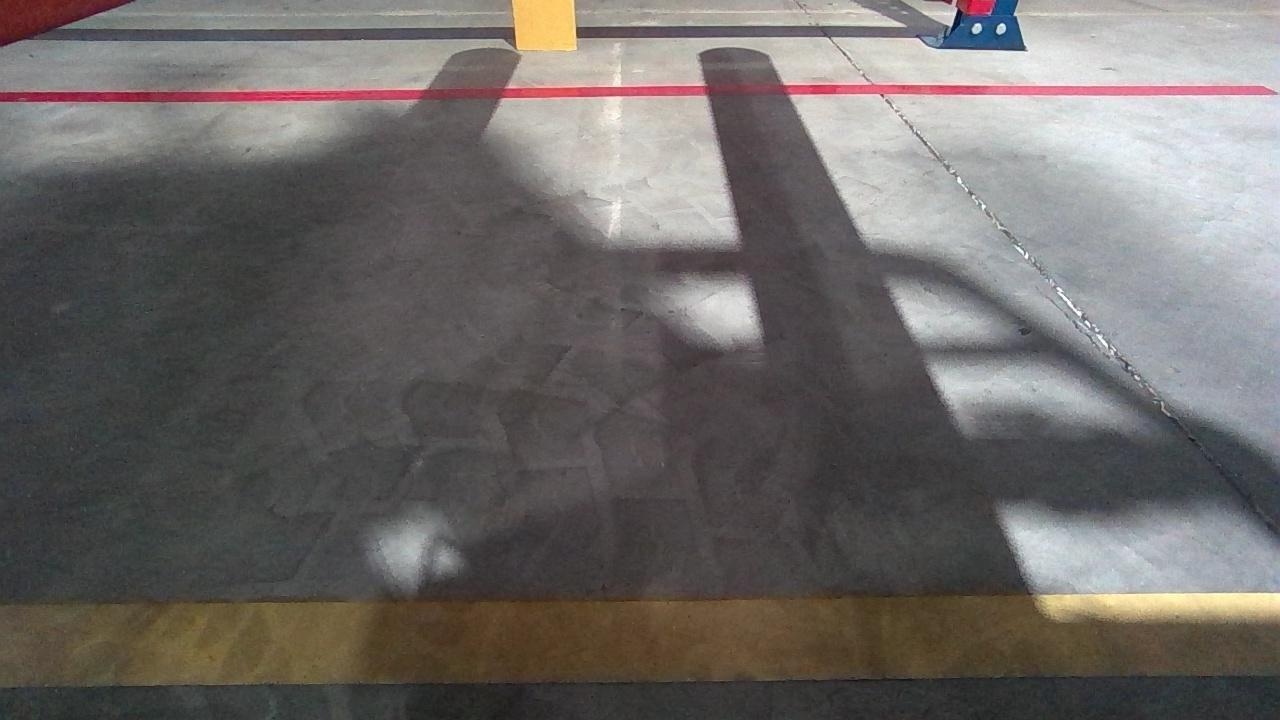red_line: (0, 78, 1270, 100)
yellow_line: (0, 594, 1278, 682)
